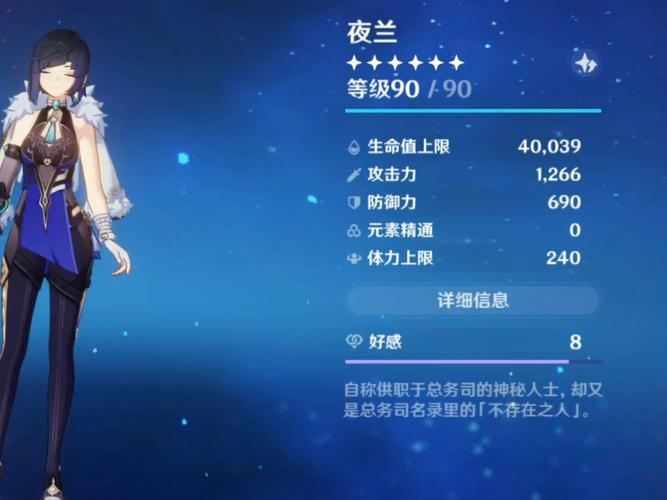夜兰: (1, 27, 138, 499)
